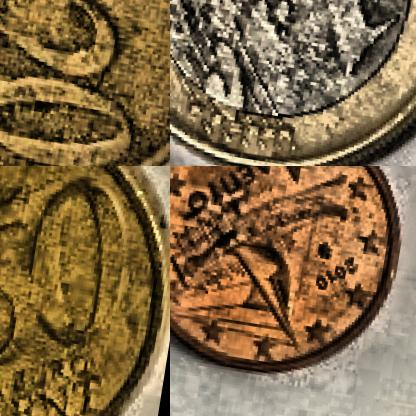coin: (170, 166, 415, 388), (0, 166, 169, 415), (170, 0, 415, 165), (0, 0, 169, 165)
